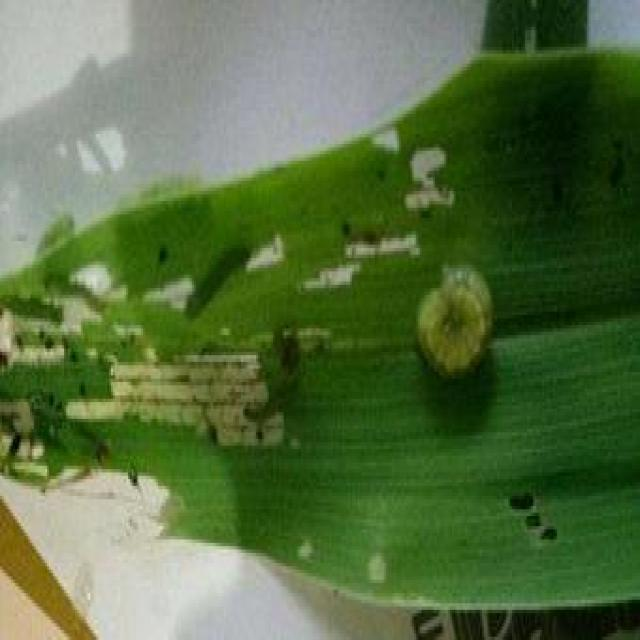BeetArmyWorm-Larva-: (412, 258, 497, 392)
